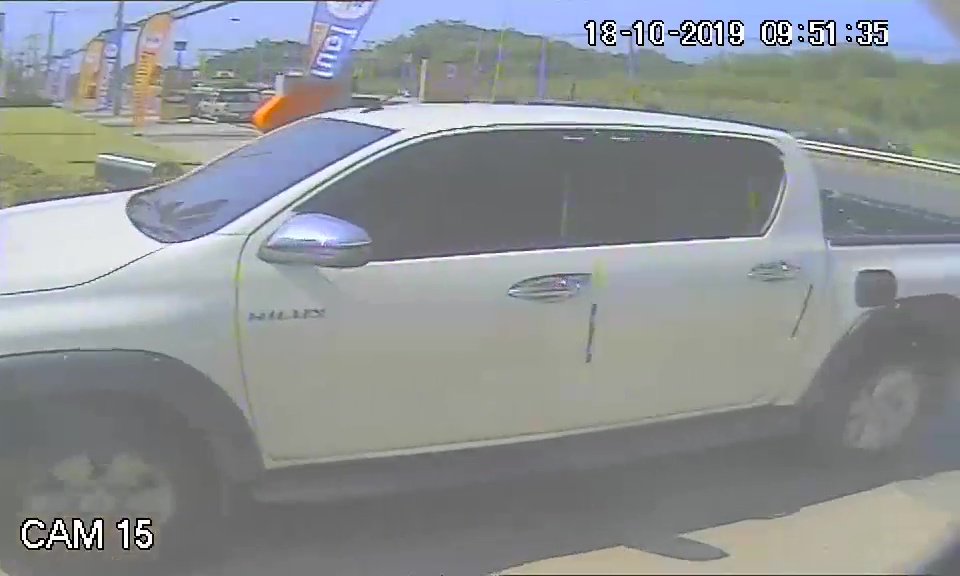pickup: (4, 98, 959, 485)
